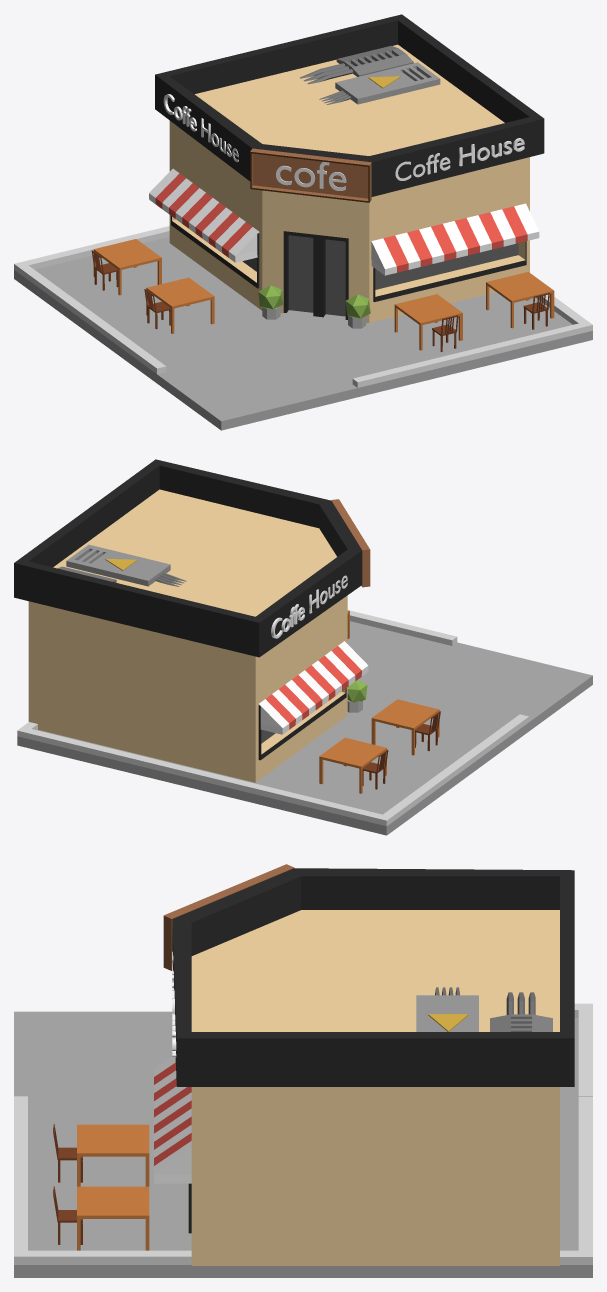
Rendered from cofe.fbx.
The picture shows the model from 3 angles, top to bottom: view 1: azimuth 30°, elevation 25°; view 2: azimuth 150°, elevation 25°; view 3: azimuth 270°, elevation 25°; orthographic projection. The views are drawn at different scales.
Parts seen in each view (by area): view 1: Cube, Plane.007, Plane.001, Plane, Cube.035, Cube.008, Plane.006, Plane.005, Plane.004, Plane.003, Cube.007, Text.002 (+2 smaller); view 2: Cube, Plane.007, Plane, Cube.008, Plane.003, Plane.004, Text.001, Cube.035; view 3: Cube, Plane.007, Plane.001, Plane.005, Plane.006, Cube.008, Cube.035, Cube.007.
Boxes of the visible parts, left/top/right/bottom form: Cube: left=155, top=14, right=544, bottom=322; Plane.007: left=14, top=226, right=592, bottom=430; Plane.001: left=371, top=203, right=539, bottom=275; Plane: left=149, top=168, right=259, bottom=262; Cube.035: left=250, top=148, right=371, bottom=202; Cube.008: left=335, top=62, right=440, bottom=104; Plane.006: left=394, top=294, right=462, bottom=350; Plane.005: left=486, top=272, right=554, bottom=328; Plane.004: left=146, top=277, right=214, bottom=333; Plane.003: left=93, top=239, right=161, bottom=295; Cube.007: left=336, top=45, right=413, bottom=76; Text.002: left=395, top=138, right=524, bottom=180; Cube: left=14, top=459, right=362, bottom=782; Plane.007: left=17, top=610, right=592, bottom=835; Plane: left=258, top=641, right=368, bottom=734; Cube.008: left=66, top=544, right=170, bottom=586; Plane.003: left=319, top=737, right=386, bottom=793; Plane.004: left=371, top=699, right=439, bottom=755; Text.001: left=271, top=575, right=347, bottom=638; Cube.035: left=331, top=499, right=370, bottom=587; Cube: left=172, top=868, right=574, bottom=1265; Plane.007: left=14, top=1003, right=592, bottom=1277; Plane.001: left=154, top=1057, right=191, bottom=1183; Plane.005: left=77, top=1186, right=149, bottom=1250; Plane.006: left=77, top=1124, right=149, bottom=1186; Cube.008: left=416, top=995, right=478, bottom=1031; Cube.035: left=163, top=864, right=294, bottom=970; Cube.007: left=490, top=1014, right=552, bottom=1031.
Size of the model in its own units: 835 by 370 by 786.
